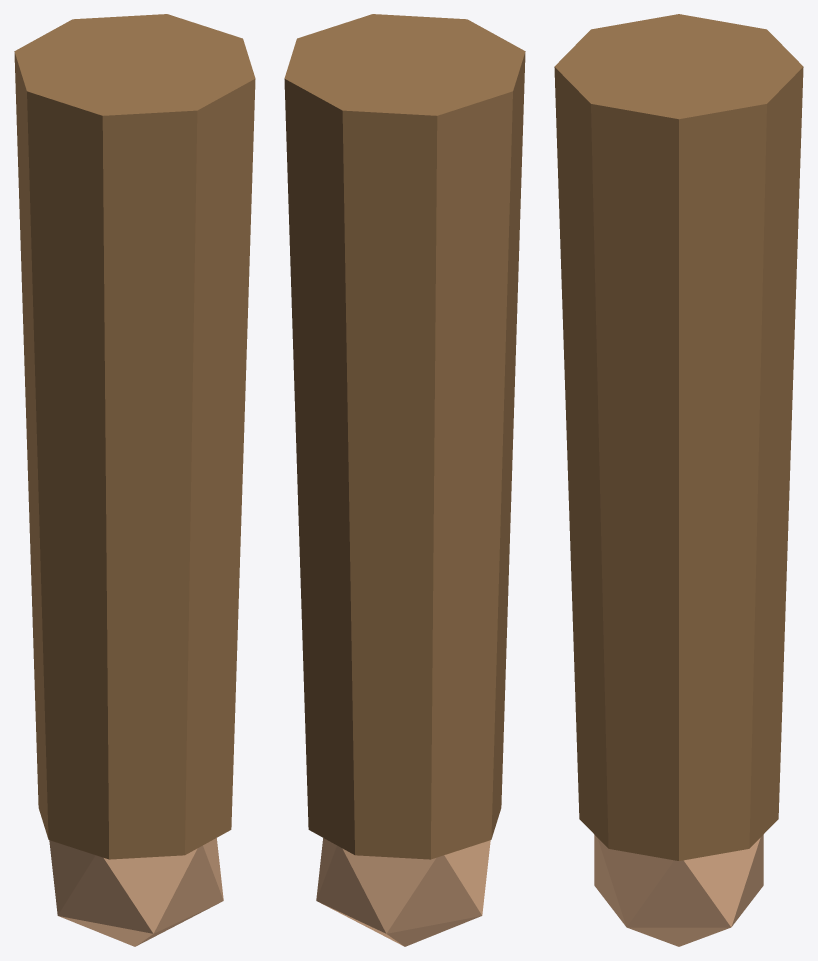
File: insan_k2k_kol.glb
3 views of the same model, side by side, from view 1: azimuth 30°, elevation 25°; view 2: azimuth 150°, elevation 25°; view 3: azimuth 270°, elevation 25° (orthographic).
Parts seen in each view (by area): view 1: Cone; view 2: Cone; view 3: Cone.
Part boxes in pixels (x1,y1,x2,y2): Cone: [14, 14, 255, 946]; Cone: [284, 14, 525, 946]; Cone: [554, 14, 803, 946].
Size of the model in its own units: 0.03 by 0.117 by 0.03.
